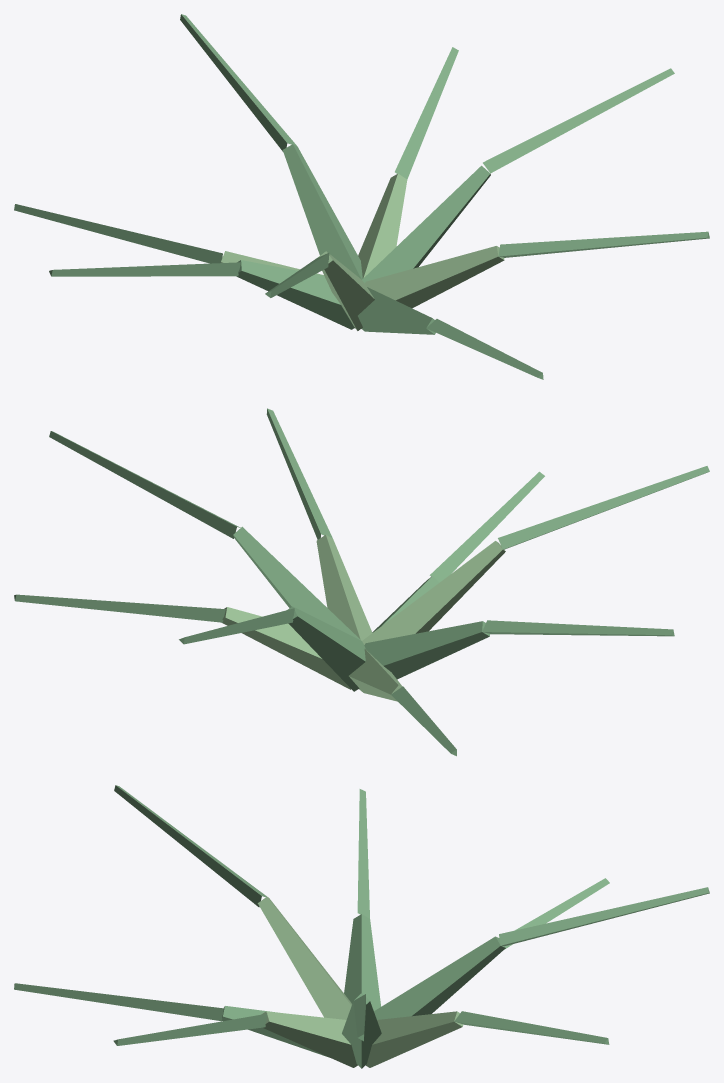
Rendered from fern_v15.glb.
The picture shows the model from 3 angles, top to bottom: view 1: azimuth 30°, elevation 25°; view 2: azimuth 150°, elevation 25°; view 3: azimuth 270°, elevation 25°; orthographic projection. The views are drawn at different scales.
Parts seen in each view (by area): view 1: lod0; view 2: lod0; view 3: lod0.
Part boxes in pixels (bbox=[...]): lod0: bbox=[14, 14, 709, 379]; lod0: bbox=[14, 408, 709, 756]; lod0: bbox=[14, 785, 709, 1068].
Size of what is drawn, in the model's own units: 1 by 0.2839 by 1.
